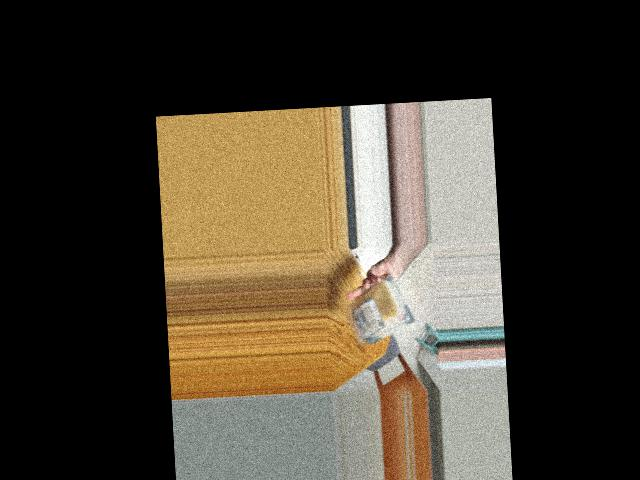cheese: (349, 290, 415, 345)
